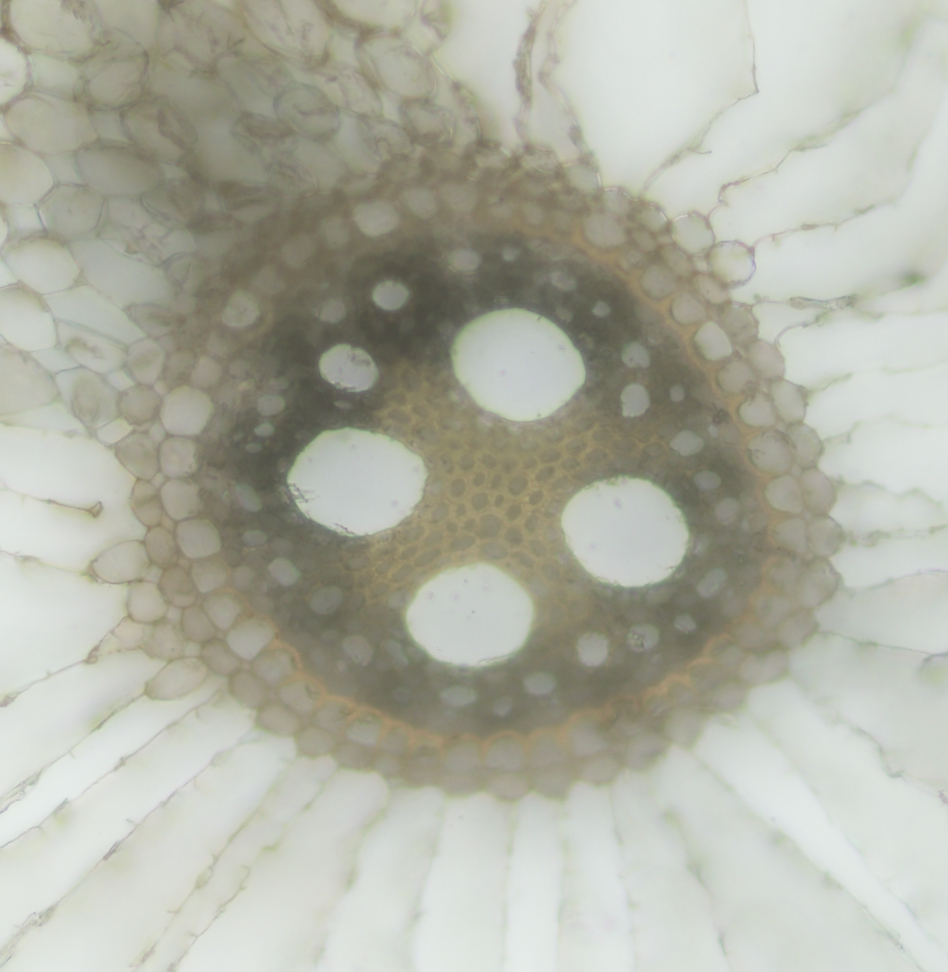lm: (285, 425, 427, 538), (450, 306, 587, 421), (561, 474, 690, 588), (403, 561, 535, 665)
